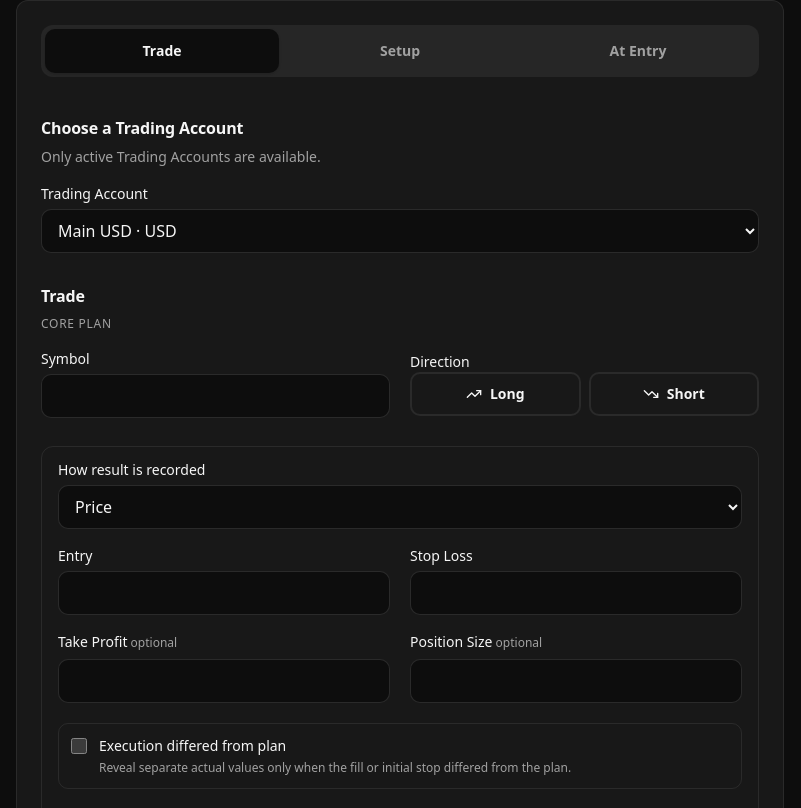
it: TradeCreateForm — Phase 15G.3 focused views › loads Conditions and previews adherence without a 0/0 state
Click the button "Setup".
click(400, 51)  # box [283,29,517,73]
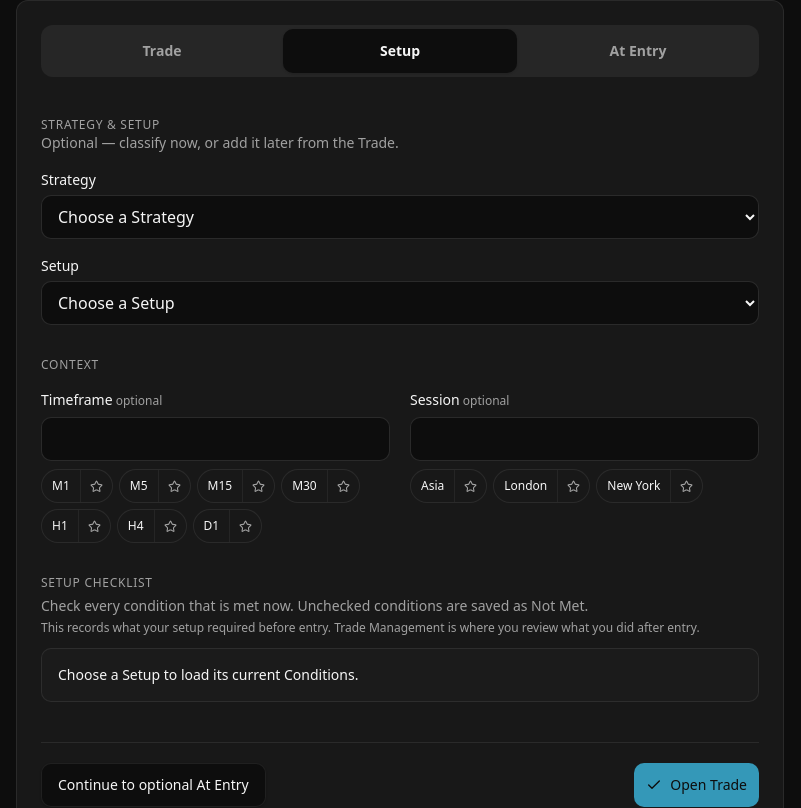
Select "Breakout" in the dropdown labelled "Strategy" at (400, 217), box [41,195,759,239]
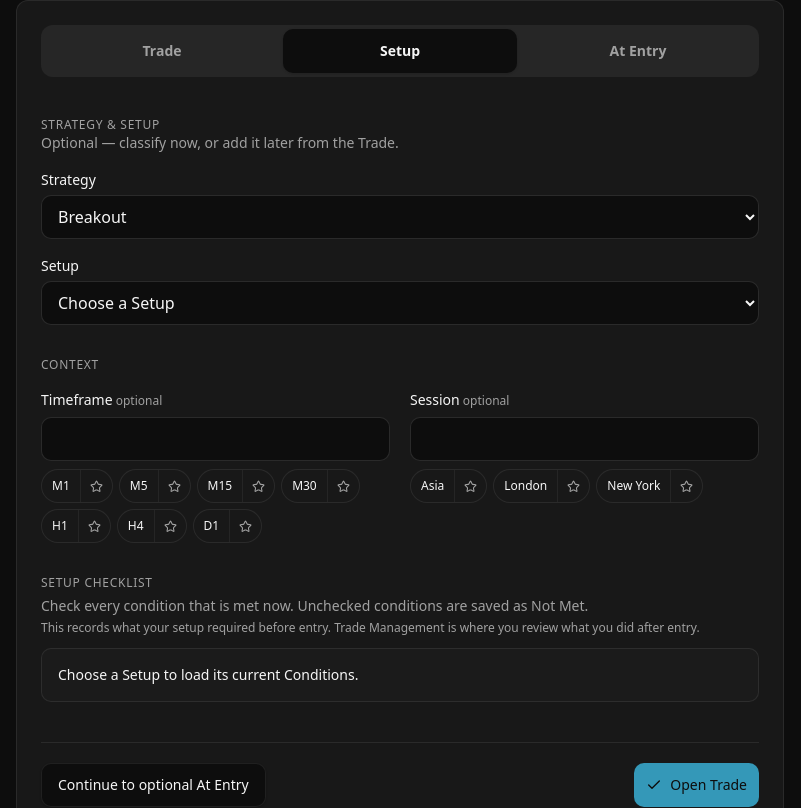
Select "Retest" in the dropdown labelled "Setup" at (400, 303), box [41,281,759,325]
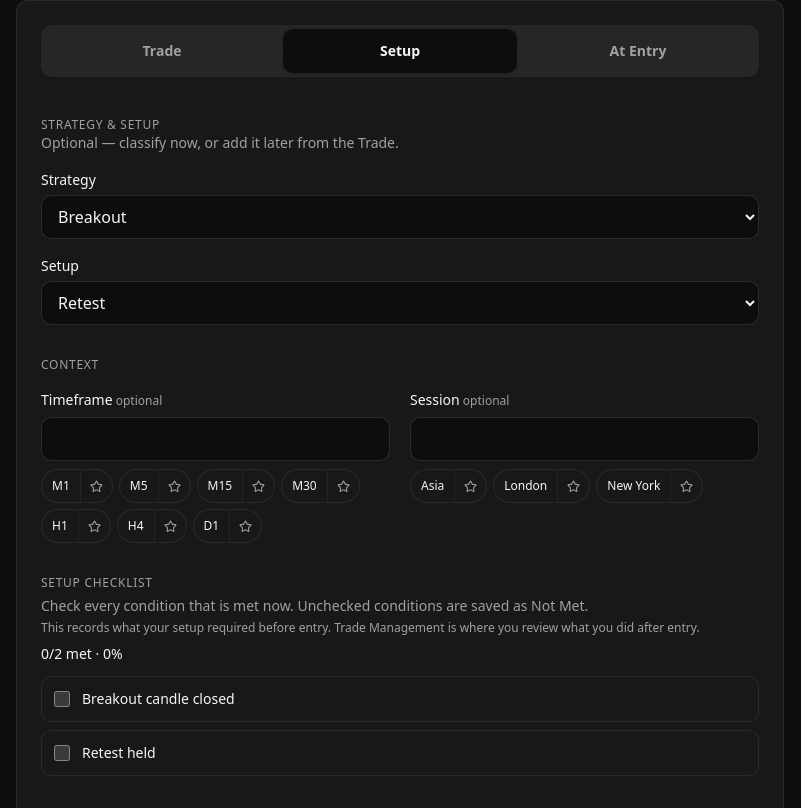
expect the text "Breakout candle closed" is shown: met, box [82,689,235,709]
expect the text "Retest held" is shown: met, box [82,743,156,763]
expect the text "0/2 met · 0%" is shown: met, box [41,644,123,664]
Click the checkbox labelled "Breakout candle closed".
click(62, 699)  # box [54,691,70,707]
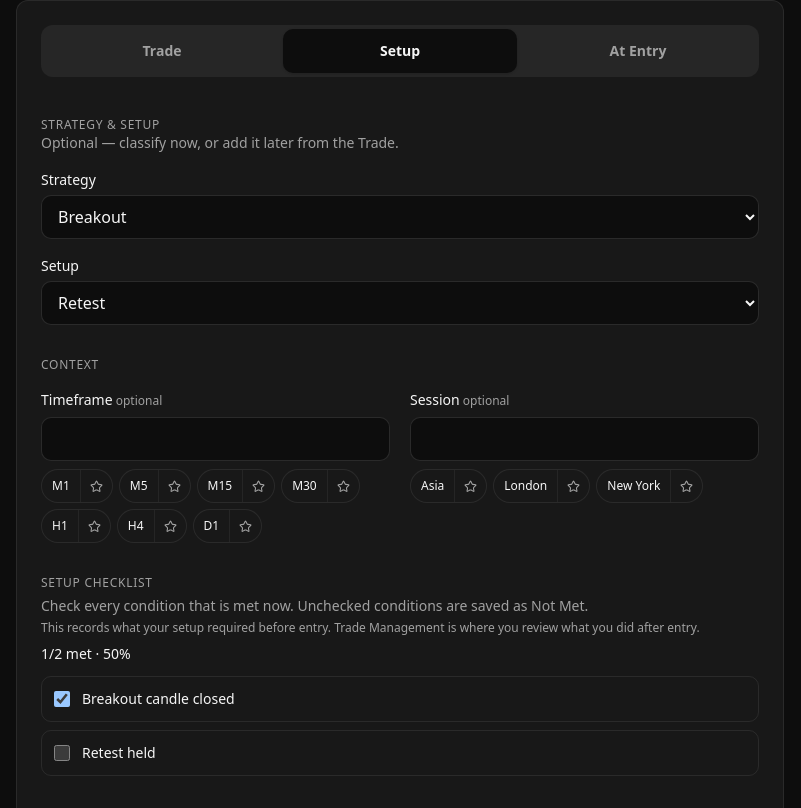
expect the text "1/2 met · 50%" is shown: met, box [41,644,131,664]
